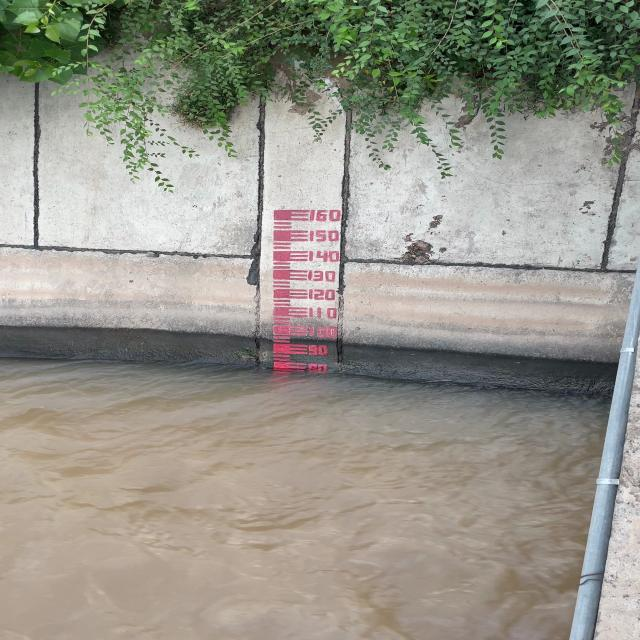ruler: (264, 205, 349, 372)
value: (307, 207, 345, 224), (306, 230, 344, 246), (304, 249, 342, 264), (304, 269, 340, 283), (306, 324, 341, 338), (305, 306, 339, 320), (305, 288, 338, 302), (305, 343, 328, 358)
